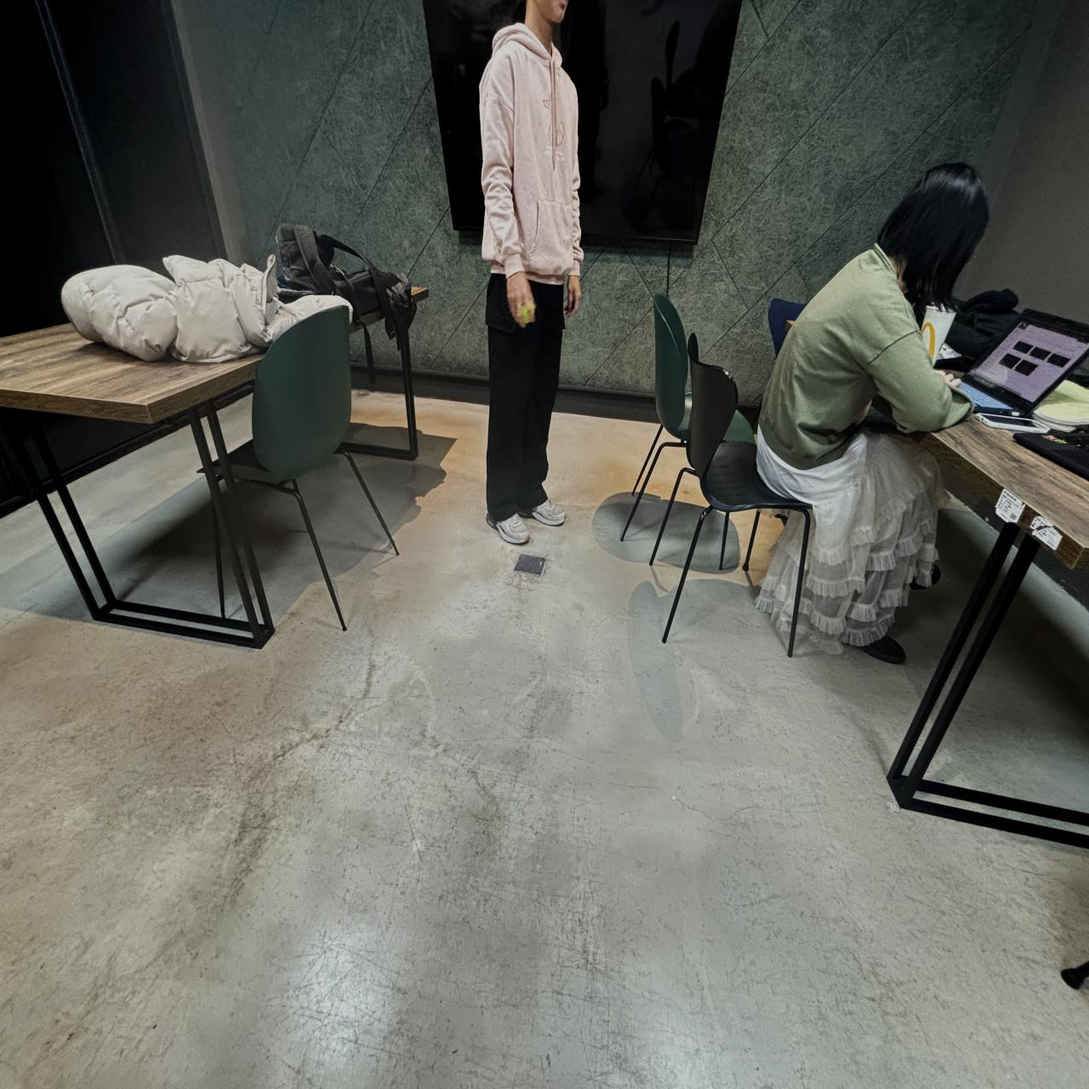person: (755, 160, 990, 668), (480, 0, 583, 544)
tennisball: (513, 299, 536, 327)
